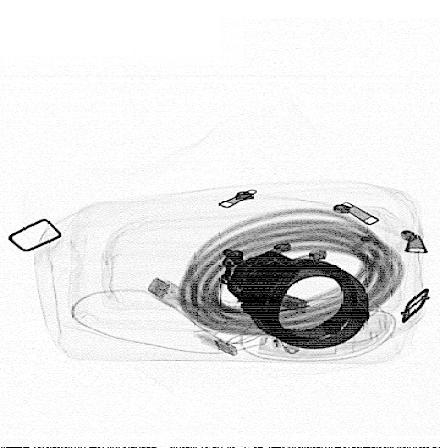HandCuffs: (219, 244, 373, 351)
